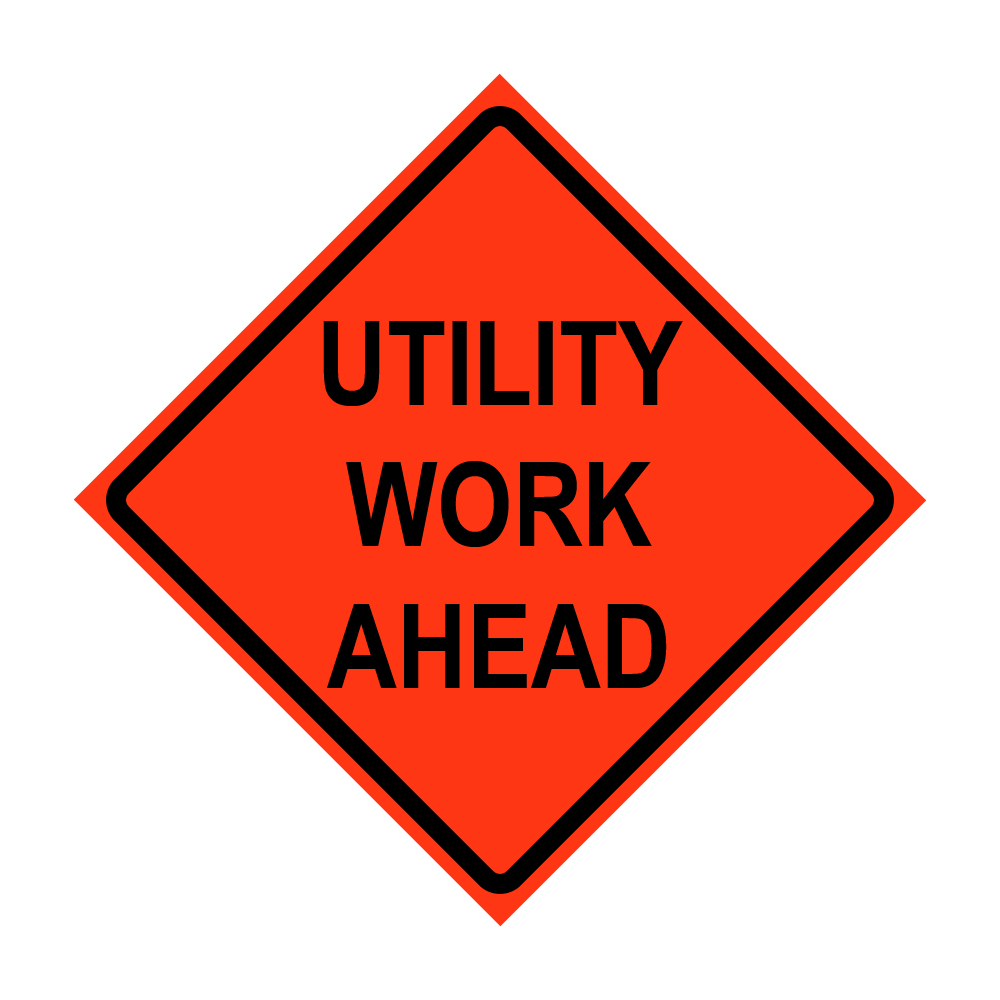Road_workahead: (62, 61, 951, 933)
